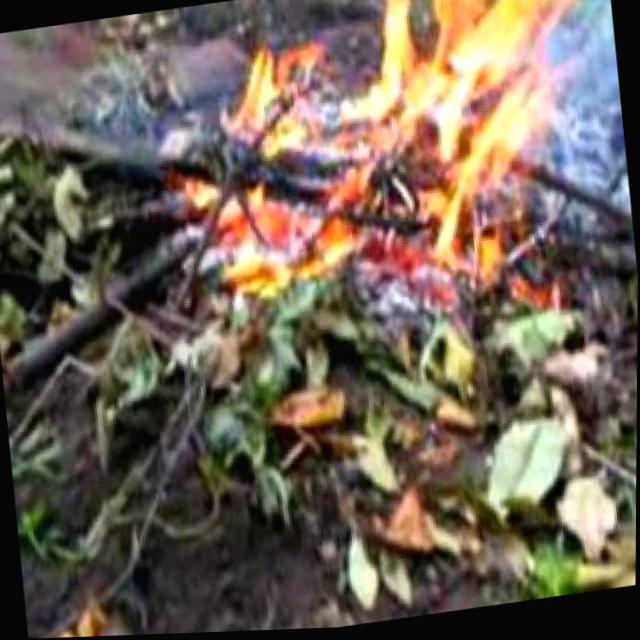Fire: (195, 0, 630, 301)
